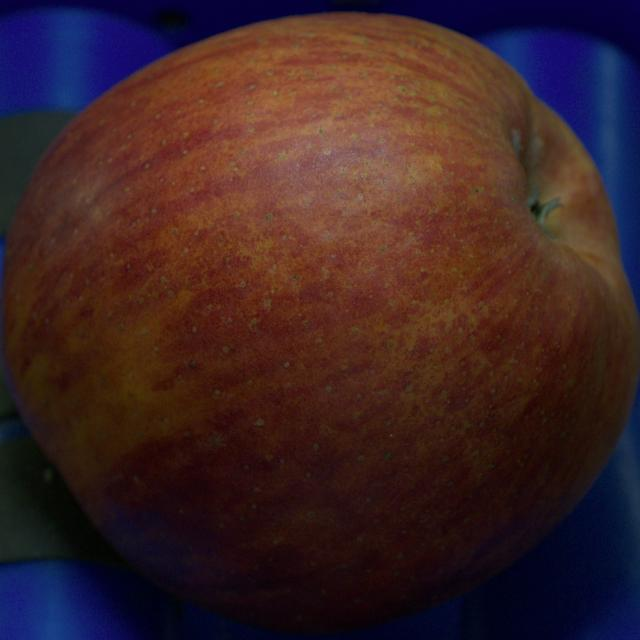apple: (0, 13, 639, 632)
